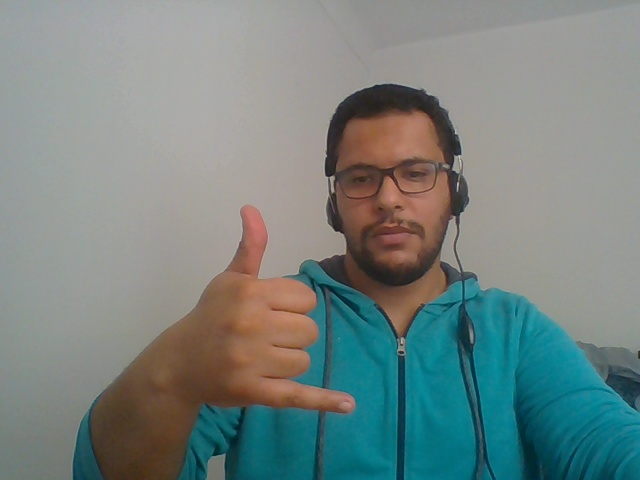callme: (147, 179, 361, 471)
